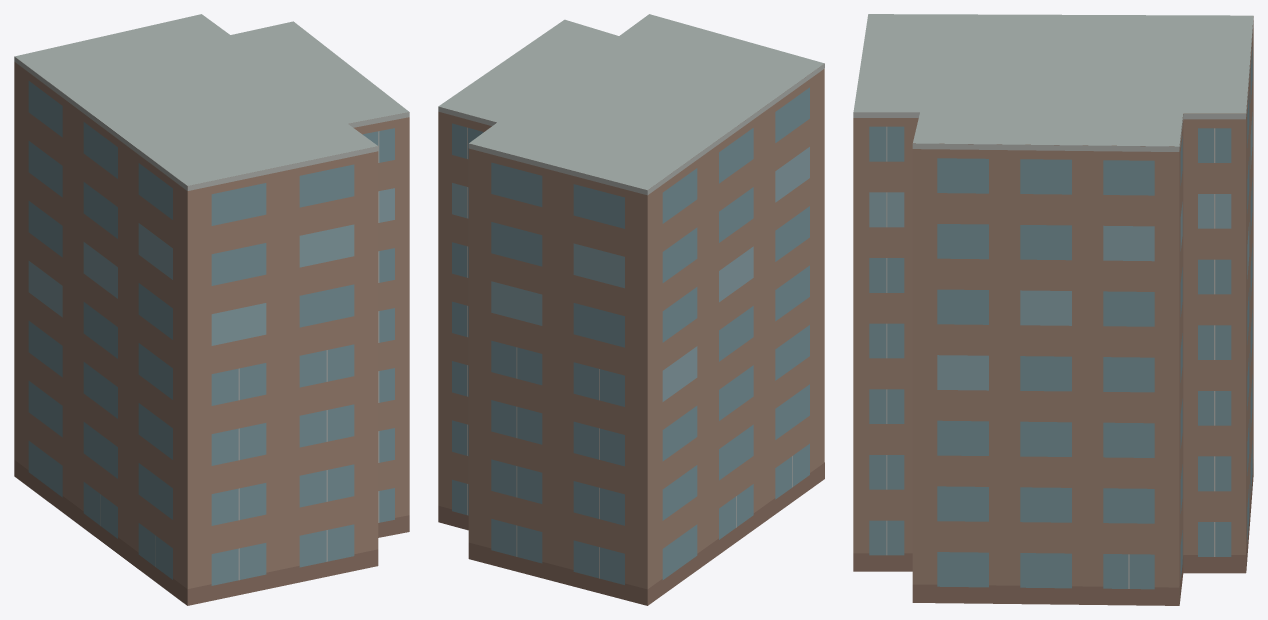
The model's file is survey-upis-32859133.glb.
3 renders of one model, left to right at view 1: azimuth 30°, elevation 25°; view 2: azimuth 150°, elevation 25°; view 3: azimuth 270°, elevation 25°, orthographic. The views are drawn at different scales.
Visible parts, largest first — view 1: survey-upis-32859133.tmp; view 2: survey-upis-32859133.tmp; view 3: survey-upis-32859133.tmp.
Part boxes in pixels (x1,y1,x2,y2): survey-upis-32859133.tmp: (14, 14, 409, 605); survey-upis-32859133.tmp: (438, 14, 824, 605); survey-upis-32859133.tmp: (853, 14, 1253, 605).
Bounding box in the file's own units: 12.32 × 19.9 × 15.72.
